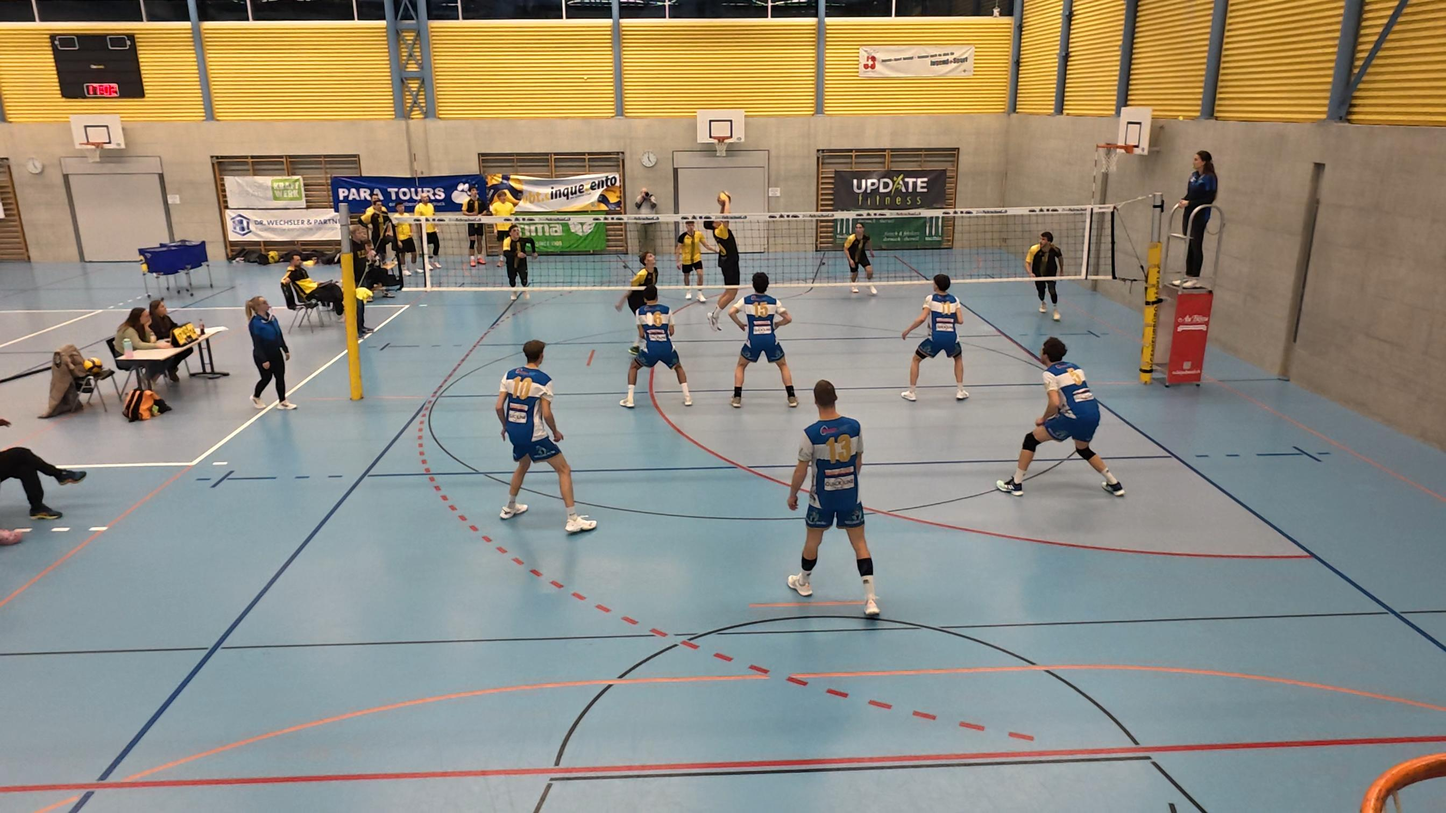Player: (786, 380, 881, 619), (998, 338, 1126, 498), (497, 340, 597, 533), (725, 274, 796, 410), (902, 274, 968, 404), (623, 296, 694, 409), (1026, 230, 1065, 321), (622, 253, 664, 326), (842, 218, 879, 298), (500, 224, 536, 305), (675, 218, 707, 304)
Set: (701, 193, 747, 322)
ball: (712, 192, 734, 208)
